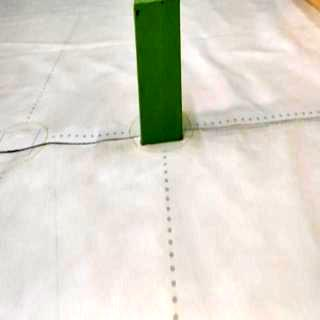greenbox: (132, 0, 184, 147)
